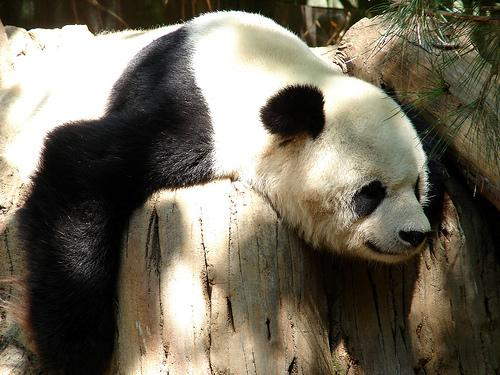panda: (0, 11, 430, 373)
